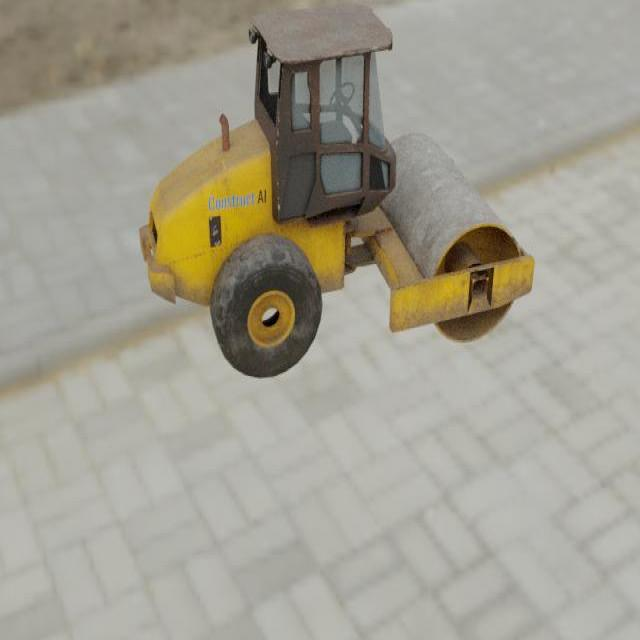Roller: (138, 1, 535, 379)
